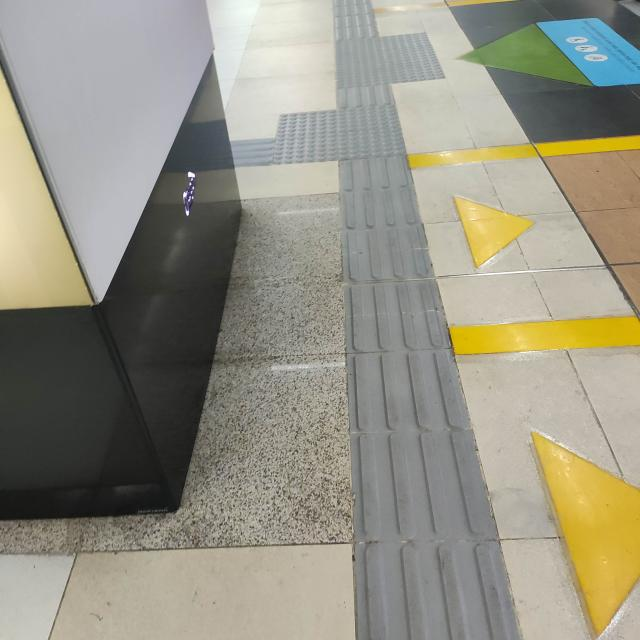lurus: (333, 153, 504, 640), (330, 6, 390, 114)
